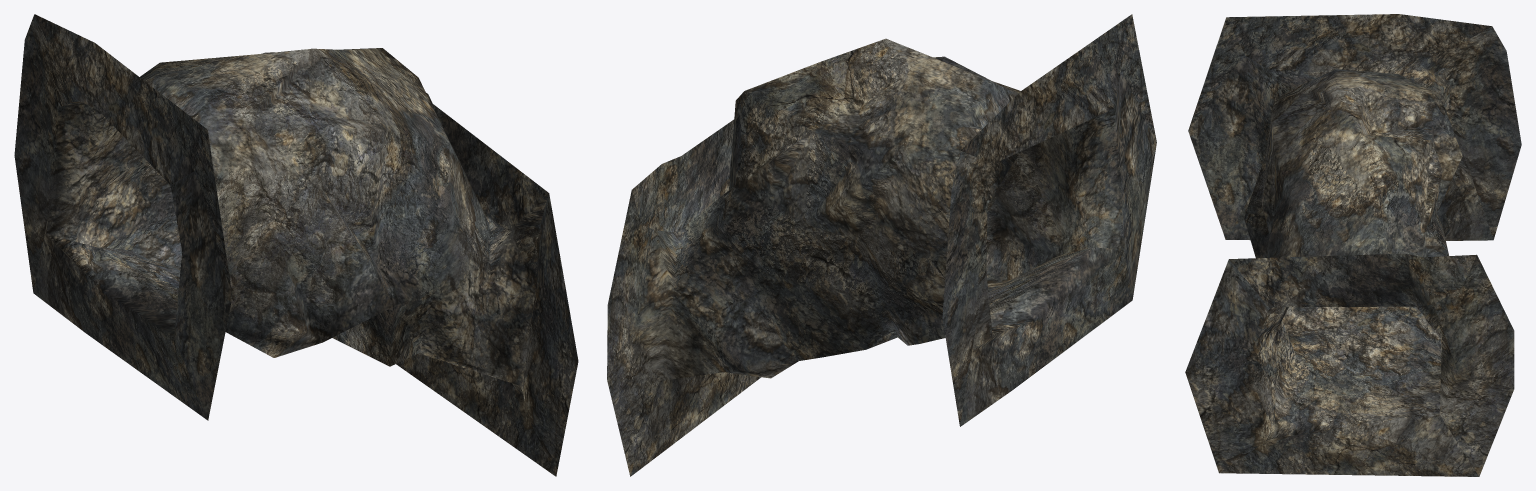
File: Module4_LOD2.fbx
3 views of the same model, side by side, from view 1: azimuth 30°, elevation 25°; view 2: azimuth 150°, elevation 25°; view 3: azimuth 270°, elevation 25° (orthographic). The views are drawn at different scales.
Visible parts, largest first — view 1: cave_el4_800_Group49488; view 2: cave_el4_800_Group49488; view 3: cave_el4_800_Group49488.
Boxes of the visible parts, x1=… form: cave_el4_800_Group49488: x1=14, y1=14, x2=578, y2=476; cave_el4_800_Group49488: x1=607, y1=14, x2=1156, y2=476; cave_el4_800_Group49488: x1=1185, y1=14, x2=1521, y2=476.
Size of the model in its own units: 10.85 by 12.14 by 11.06.
